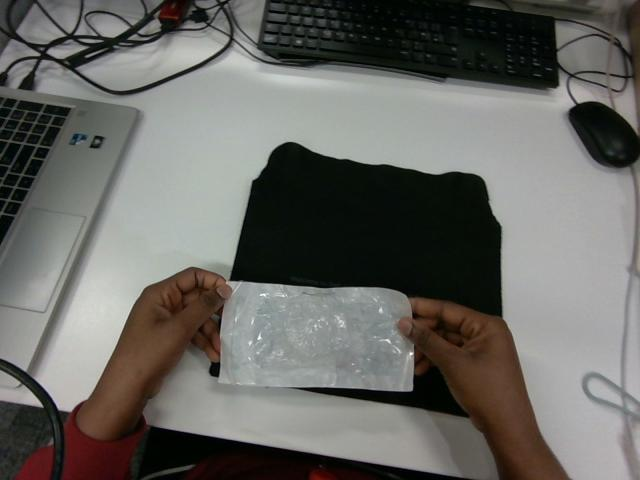gallipot: (219, 282, 413, 390)
